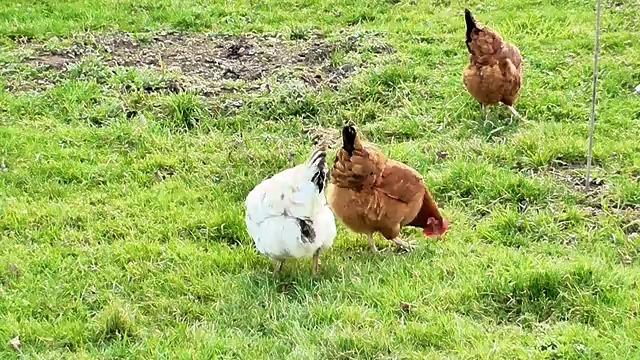Normal: (331, 126, 447, 245), (459, 12, 527, 109)
